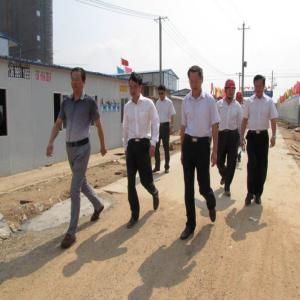none: (127, 71, 144, 101), (70, 68, 87, 94), (189, 66, 204, 95), (254, 76, 267, 97), (158, 86, 167, 101)
red: (225, 79, 237, 101), (237, 92, 244, 105)
